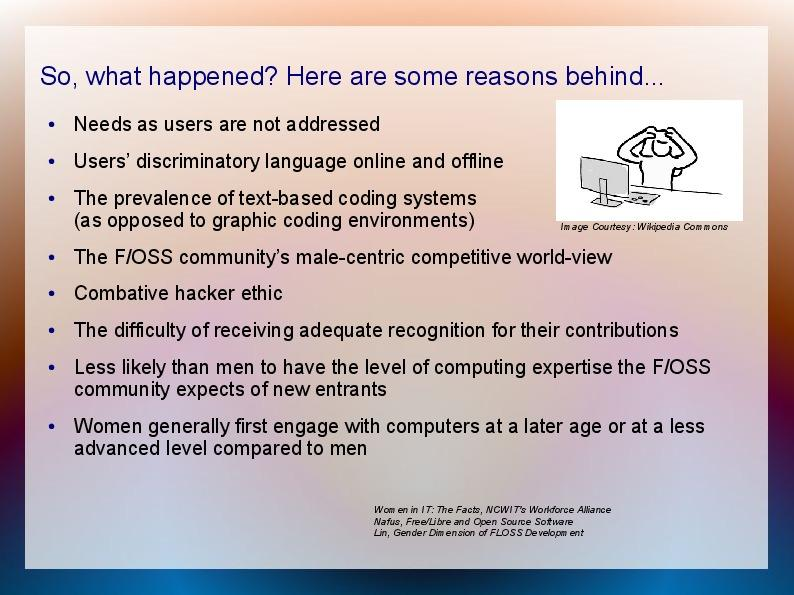paragraph: (38, 109, 737, 469)
subtitle: (368, 491, 647, 557)
title: (32, 49, 678, 102)
